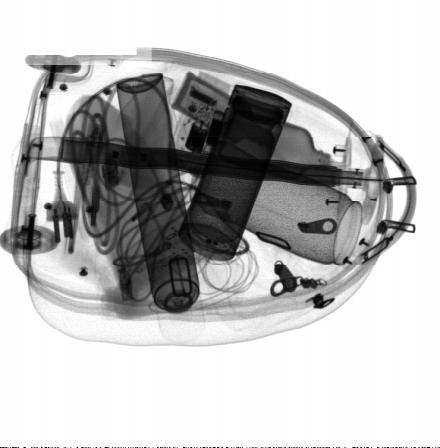Sprayer: (115, 72, 206, 345)
